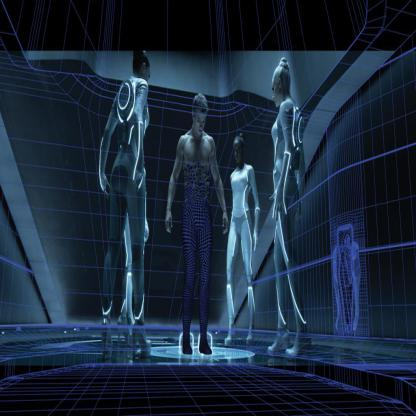face: (195, 112, 207, 136), (273, 80, 281, 108), (143, 63, 151, 87), (234, 142, 243, 163)
